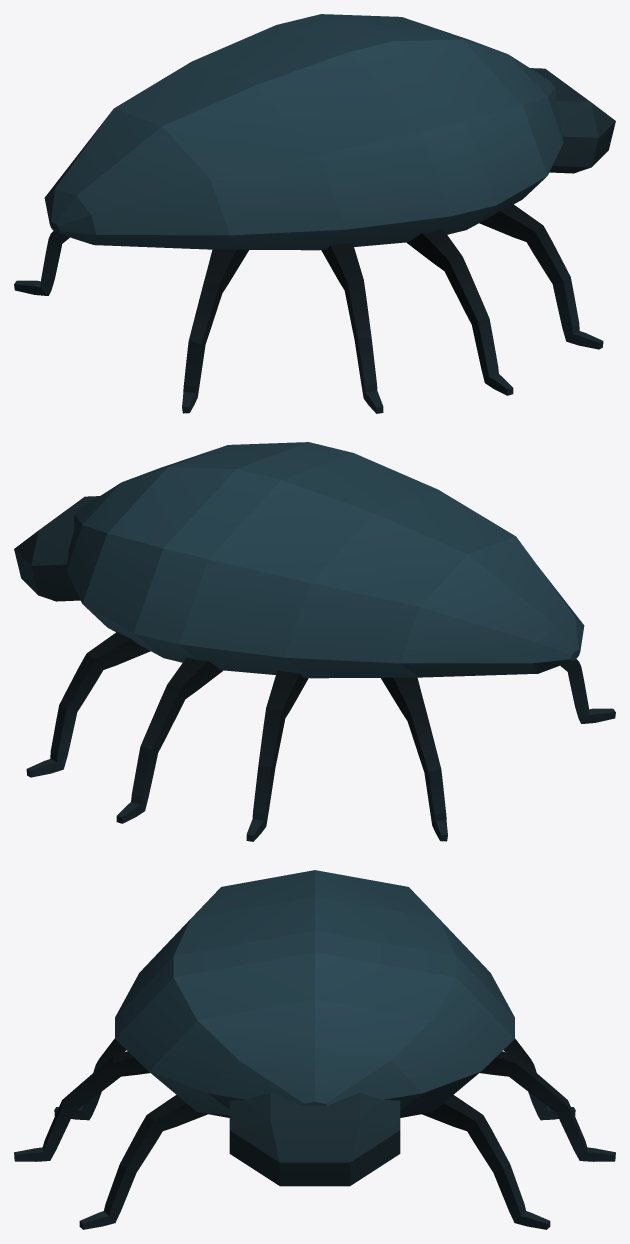
File: beetle.glb
The picture shows the model from 3 angles, top to bottom: view 1: azimuth 30°, elevation 25°; view 2: azimuth 150°, elevation 25°; view 3: azimuth 270°, elevation 25°; orthographic projection. The views are drawn at different scales.
Visible parts, largest first — view 1: beetle_merged; view 2: beetle_merged; view 3: beetle_merged.
Part boxes in pixels (x1,y1,x2,y2): beetle_merged: (14, 14, 615, 413); beetle_merged: (14, 442, 615, 841); beetle_merged: (14, 870, 615, 1229).
Size of the model in its own units: 2.55 by 1.09 by 2.52.
1 material, 1 textured.
